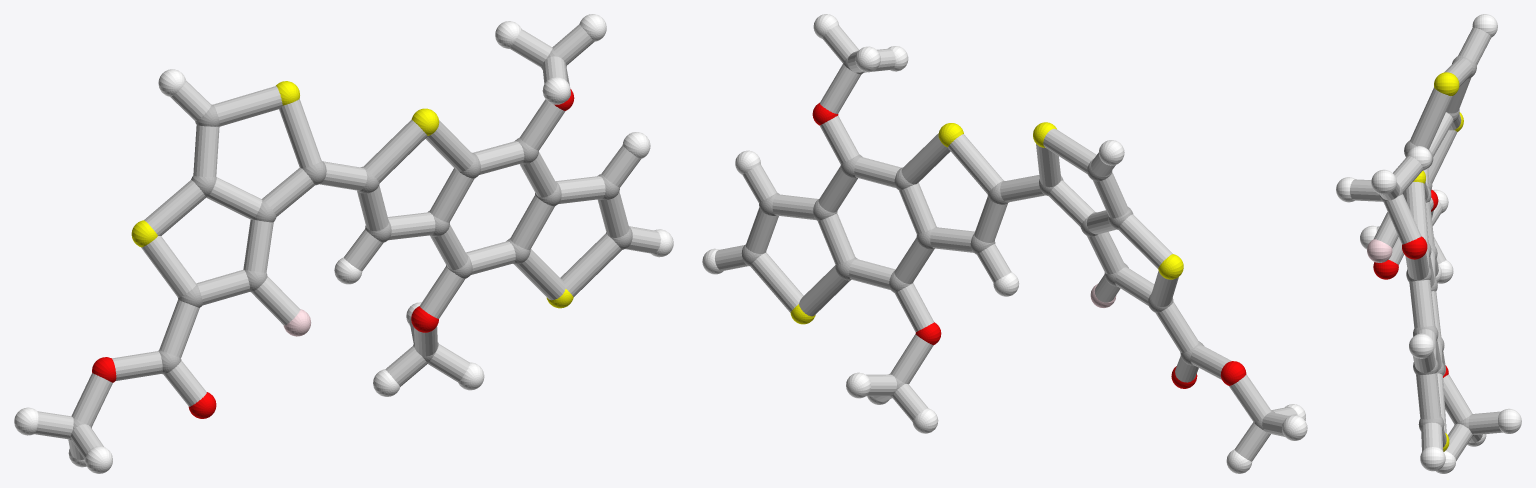
The model's file is color.glb.
3 renders of one model, left to right at view 1: azimuth 30°, elevation 25°; view 2: azimuth 150°, elevation 25°; view 3: azimuth 270°, elevation 25°, orthographic. The views are drawn at different scales.
Visible parts, largest first — view 1: grp15205, grp8689, grp1, grp7241, grp13395; view 2: grp15205, grp8689, grp1, grp7241, grp13395; view 3: grp15205, grp8689, grp1, grp13395, grp7241, grp14843.
Boxes of the visible parts, x1=… form: grp15205: x1=34, y1=24, x2=660, y2=459; grp8689: x1=14, y1=14, x2=673, y2=473; grp1: x1=69, y1=49, x2=632, y2=441; grp7241: x1=131, y1=81, x2=573, y2=308; grp13395: x1=92, y1=89, x2=574, y2=418; grp15205: x1=715, y1=25, x2=1297, y2=461; grp8689: x1=702, y1=14, x2=1307, y2=473; grp1: x1=741, y1=50, x2=1274, y2=430; grp7241: x1=790, y1=122, x2=1183, y2=324; grp13395: x1=812, y1=102, x2=1246, y2=388; grp15205: x1=1350, y1=27, x2=1502, y2=460; grp8689: x1=1336, y1=14, x2=1521, y2=473; grp1: x1=1379, y1=55, x2=1476, y2=436; grp13395: x1=1373, y1=190, x2=1448, y2=377; grp7241: x1=1413, y1=72, x2=1463, y2=451; grp14843: x1=1367, y1=239, x2=1392, y2=262.
Size of the model in its own units: 16.18 by 8.94 by 4.37.
